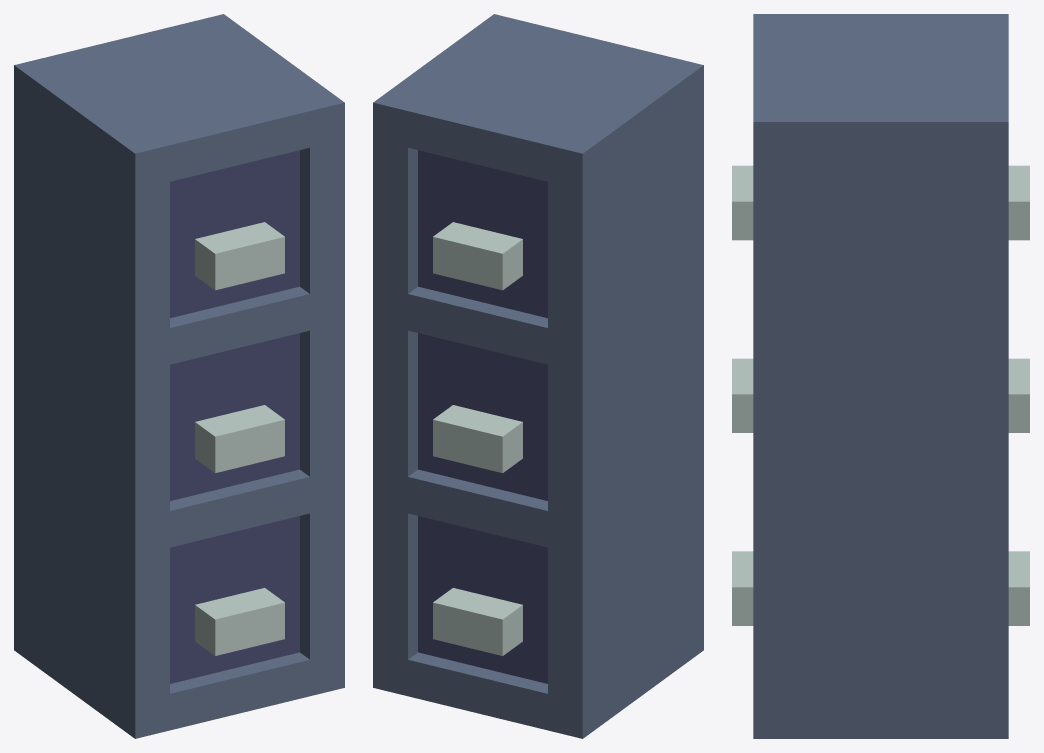
File: File Cabinet v1.glb
3 views of the same model, side by side, from view 1: azimuth 30°, elevation 25°; view 2: azimuth 150°, elevation 25°; view 3: azimuth 270°, elevation 25° (orthographic). The views are drawn at different scales.
Parts seen in each view (by area): view 1: generated(Clone); view 2: generated(Clone); view 3: generated(Clone).
Boxes of the visible parts, x1,y1,x2,y2 form: generated(Clone): (14,14,344,738); generated(Clone): (373,14,703,738); generated(Clone): (732,14,1029,738).
Size of the model in its own units: 6 by 16 by 7.
Materials: 1 (1 with a texture image).
